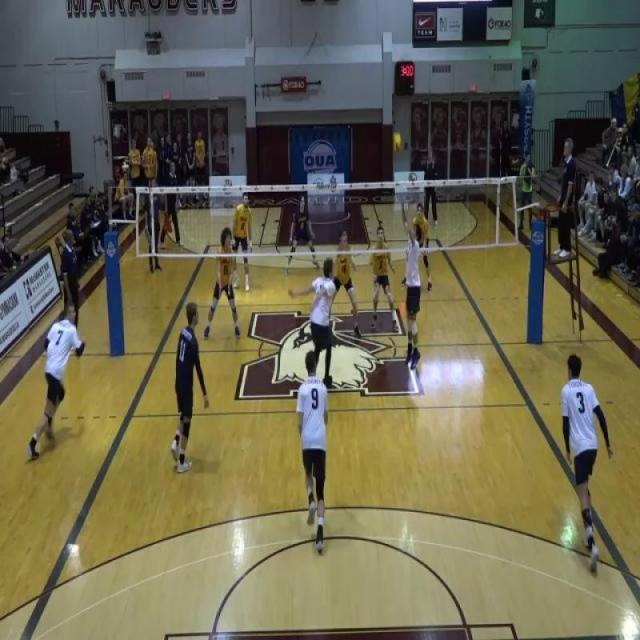volleyball: (392, 129, 404, 152)
